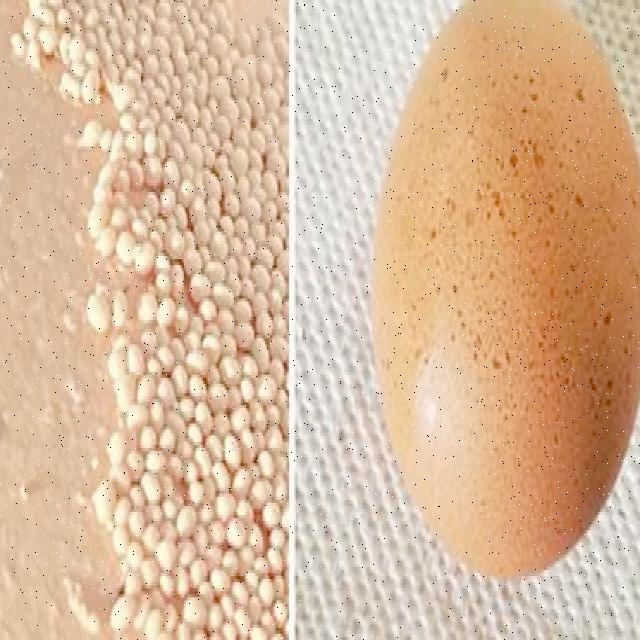Brown Egg: (363, 0, 640, 579)
